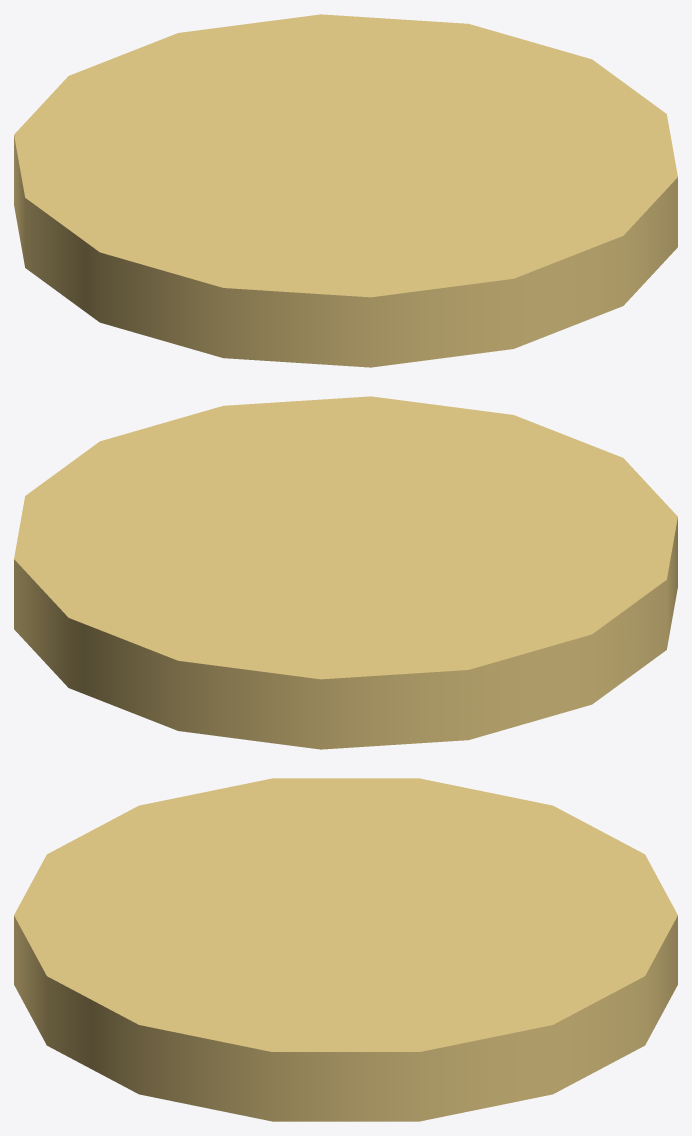
Rendered from coin.glb.
3 views of the same model, one above another, from view 1: azimuth 30°, elevation 25°; view 2: azimuth 150°, elevation 25°; view 3: azimuth 270°, elevation 25° (orthographic).
Visible parts, largest first — view 1: coin; view 2: coin; view 3: coin.
Part boxes in pixels (bbox=[...]): coin: bbox=[14, 14, 677, 367]; coin: bbox=[14, 396, 677, 749]; coin: bbox=[14, 778, 677, 1121].
Size of the model in its own units: 0.0253 by 0.003 by 0.026.
